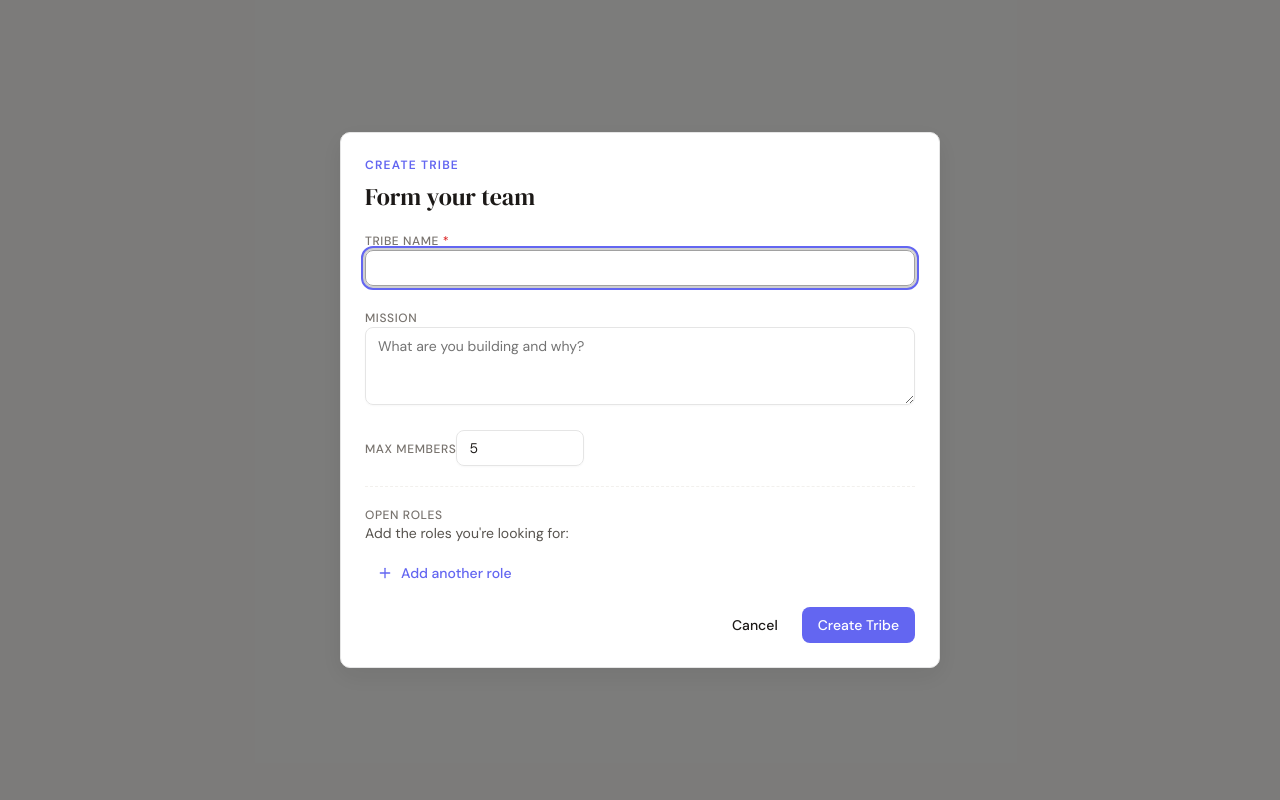
it: CreateTribeModal › name field is required — shows error on empty submit
The width and height of the screenshot is (1280, 800).
Click the button "Create Tribe" at (858, 625), box [802,607,915,643]
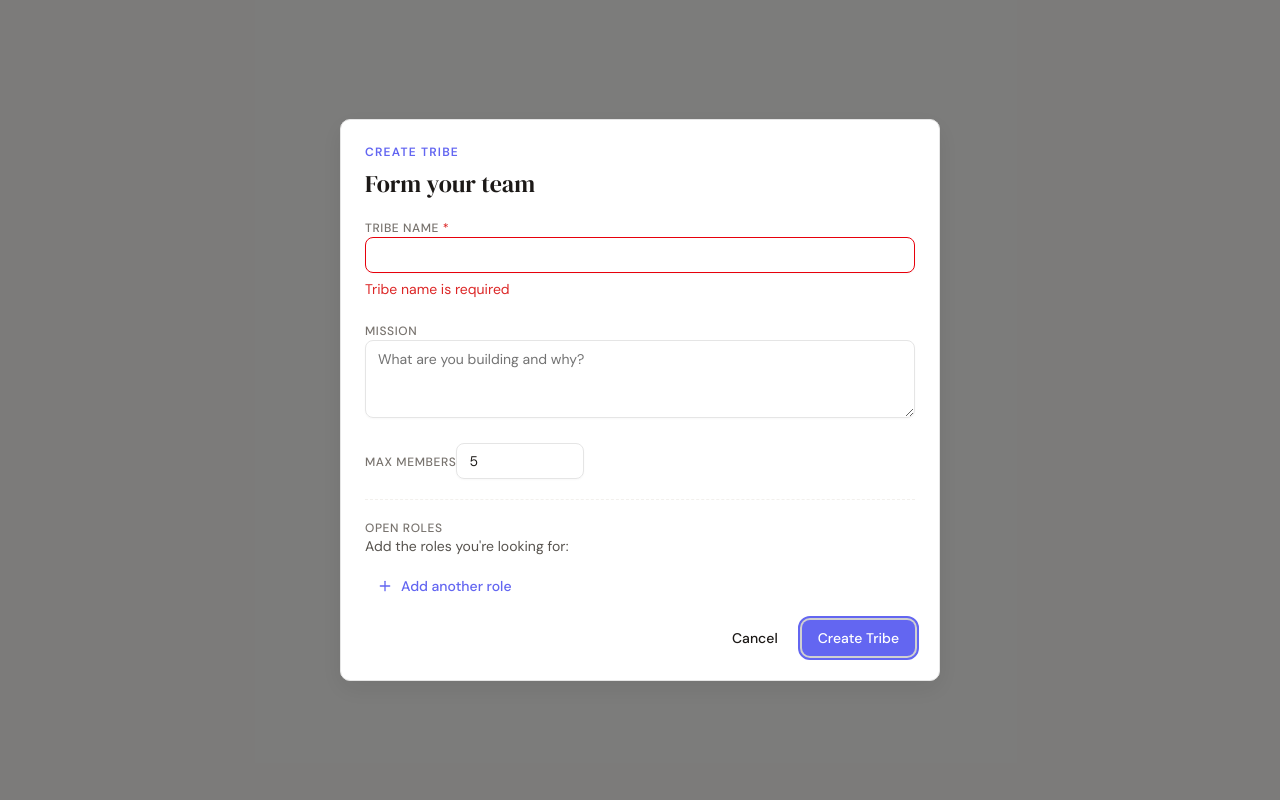
Now the text "Tribe name is required" is shown, box [365,280,510,298]
